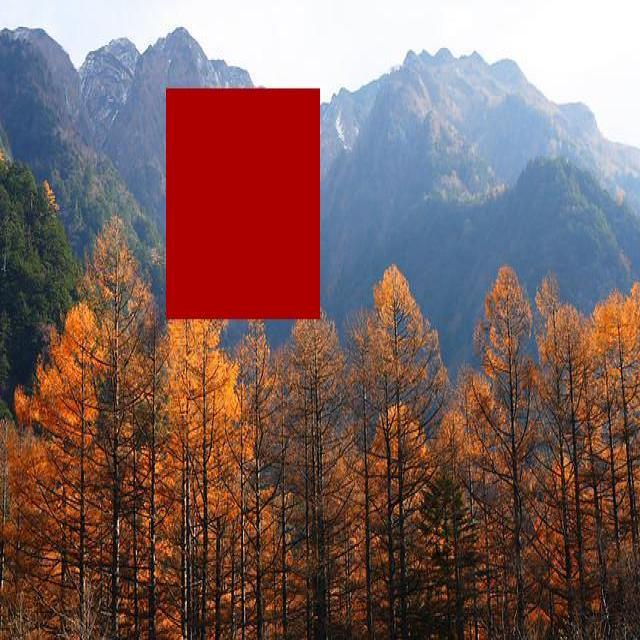RedSquare: (162, 79, 324, 324)
